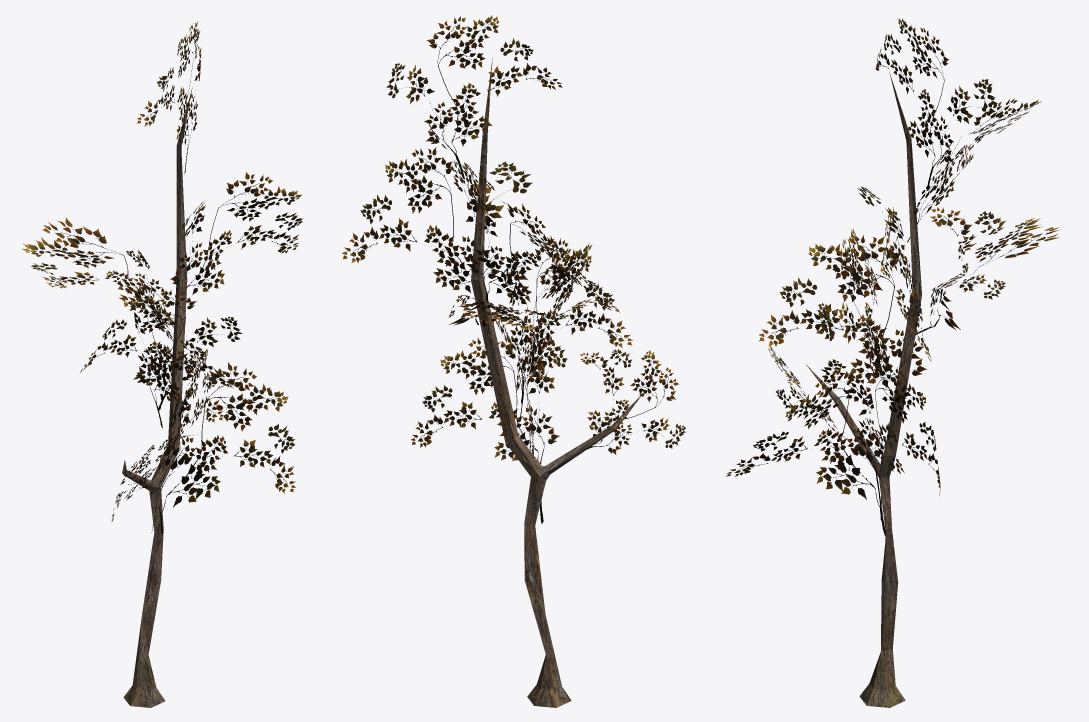
File: tree_3_lod.dae
The picture shows the model from 3 angles, left to right: view 1: azimuth 30°, elevation 25°; view 2: azimuth 150°, elevation 25°; view 3: azimuth 270°, elevation 25°; orthographic projection. The views are drawn at different scales.
Visible parts, largest first — view 1: Mesh_Object; view 2: Mesh_Object; view 3: Mesh_Object.
Part boxes in pixels (x1,y1,x2,y2): Mesh_Object: (22,21,303,707); Mesh_Object: (342,15,685,707); Mesh_Object: (726,18,1061,707).
Bounding box in the file's own units: 4.57 × 10.76 × 4.89.
